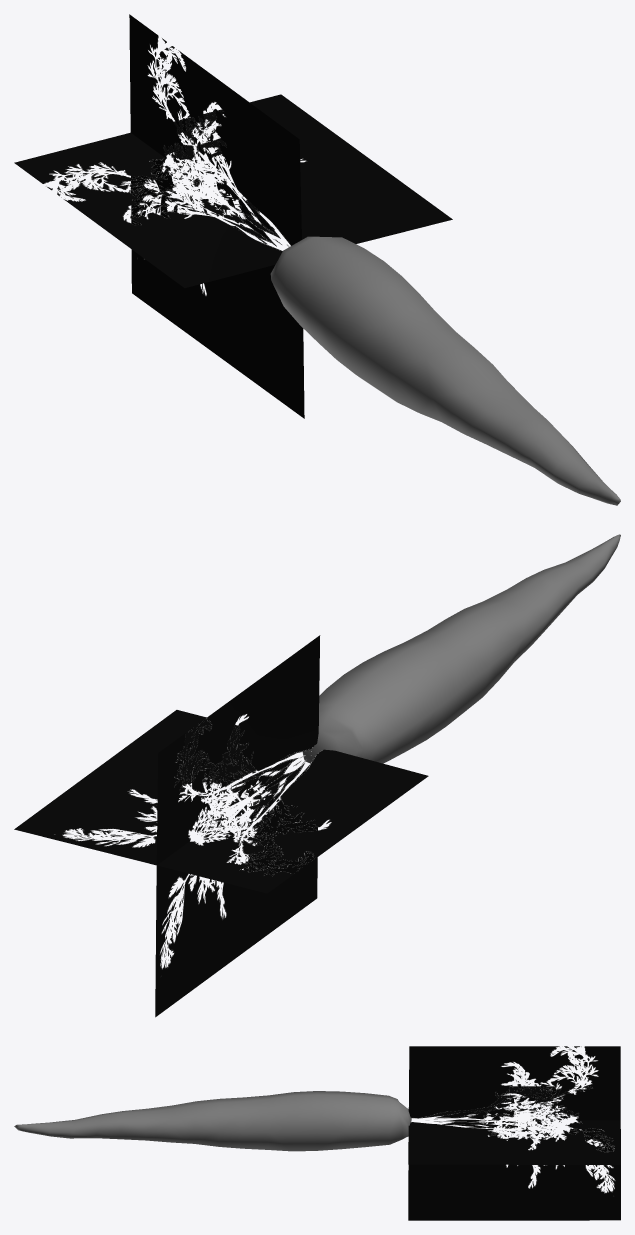
File: Carrot.fbx
3 renders of one model, top to bottom at view 1: azimuth 30°, elevation 25°; view 2: azimuth 150°, elevation 25°; view 3: azimuth 270°, elevation 25°, orthographic. The views are drawn at different scales.
Parts seen in each view (by area): view 1: Carrot_LOD0; view 2: Carrot_LOD0; view 3: Carrot_LOD0.
Part boxes in pixels (x1=…): Carrot_LOD0: x1=14, y1=14, x2=620, y2=505; Carrot_LOD0: x1=14, y1=534, x2=620, y2=1017; Carrot_LOD0: x1=14, y1=1046, x2=620, y2=1220.
Size of what is drawn, in the model's own units: 15.92 by 15.92 by 50.57.
